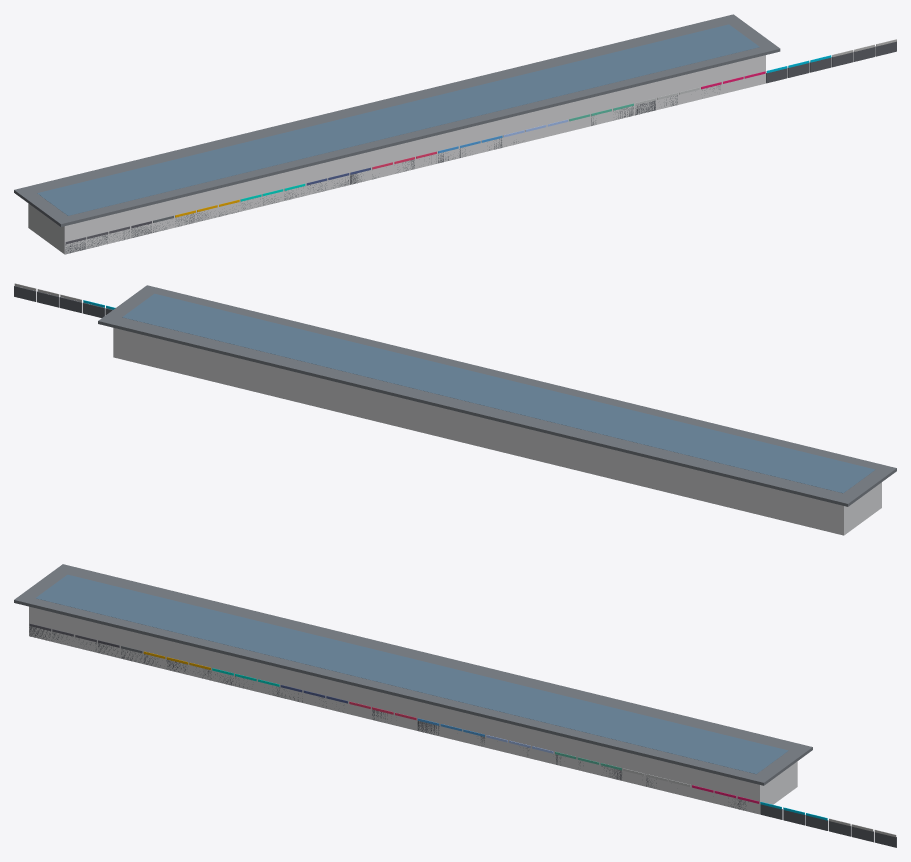
File: PitBuilding_32Bays.fbx
3 views of the same model, one above another, from view 1: azimuth 30°, elevation 25°; view 2: azimuth 150°, elevation 25°; view 3: azimuth 330°, elevation 25° (orthographic). The views are drawn at different scales.
Parts seen in each view (by area): view 1: Glass_VIP_PaddockClub, Body_PitBuilding_Main, Body_PitBuilding_RoofCanopy; view 2: Glass_VIP_PaddockClub, Body_PitBuilding_Main, Body_PitBuilding_RoofCanopy; view 3: Glass_VIP_PaddockClub, Body_PitBuilding_Main, Body_PitBuilding_RoofCanopy.
Boxes of the visible parts, x1=… form: Glass_VIP_PaddockClub: x1=37, y1=24, x2=759, y2=215; Body_PitBuilding_Main: x1=28, y1=55, x2=765, y2=254; Body_PitBuilding_RoofCanopy: x1=14, y1=14, x2=780, y2=226; Glass_VIP_PaddockClub: x1=122, y1=293, x2=875, y2=493; Body_PitBuilding_Main: x1=113, y1=328, x2=881, y2=535; Body_PitBuilding_RoofCanopy: x1=98, y1=285, x2=896, y2=506; Glass_VIP_PaddockClub: x1=35, y1=574, x2=788, y2=774; Body_PitBuilding_Main: x1=29, y1=606, x2=797, y2=814; Body_PitBuilding_RoofCanopy: x1=14, y1=564, x2=812, y2=785.
Bounding box in the file's own units: 366 × 15.25 × 35.4.
